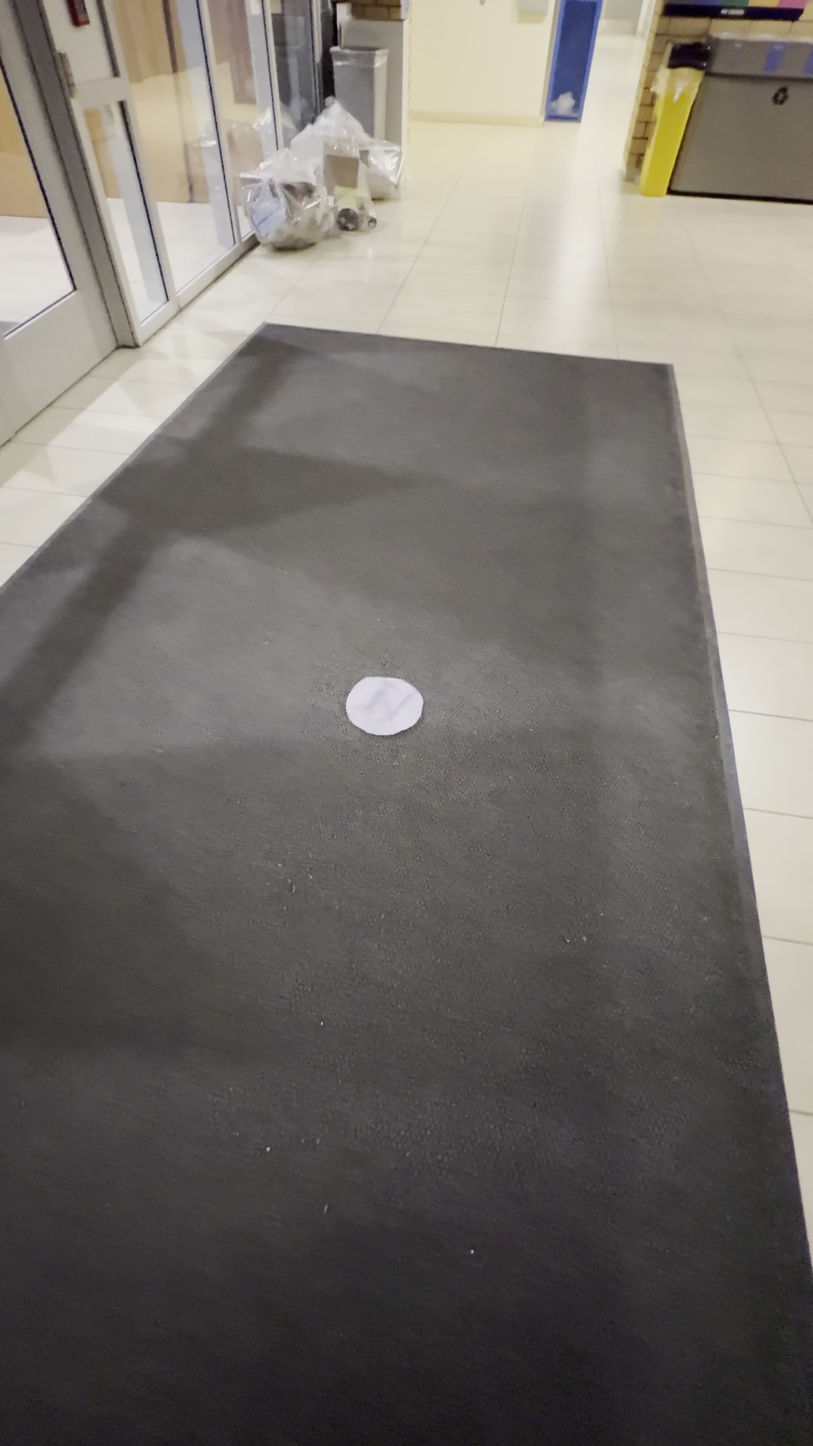Target: (345, 676, 424, 735)
